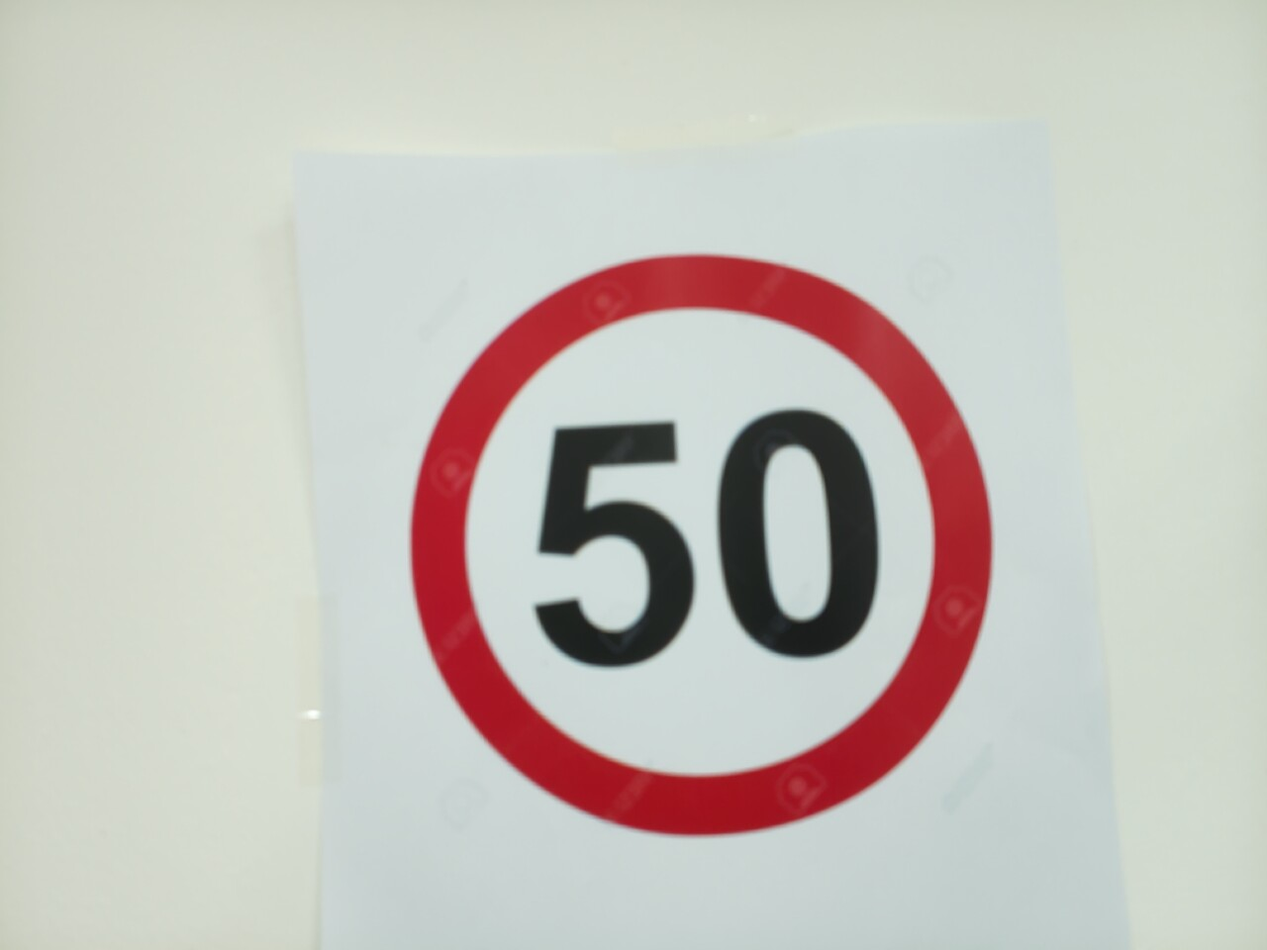speed_50: (396, 239, 1007, 850)
